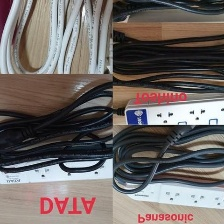three_eye_plug: (0, 141, 115, 186), (119, 86, 224, 135), (118, 170, 224, 212)
